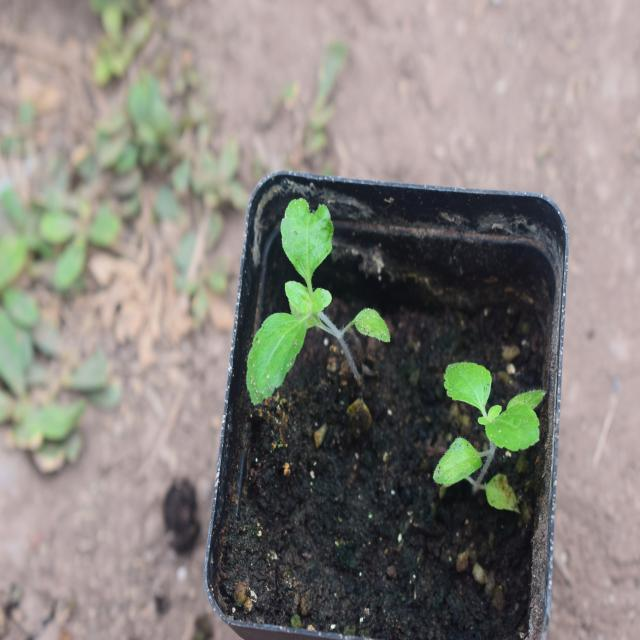billygoat_weed: (244, 189, 386, 414), (432, 344, 549, 519)
